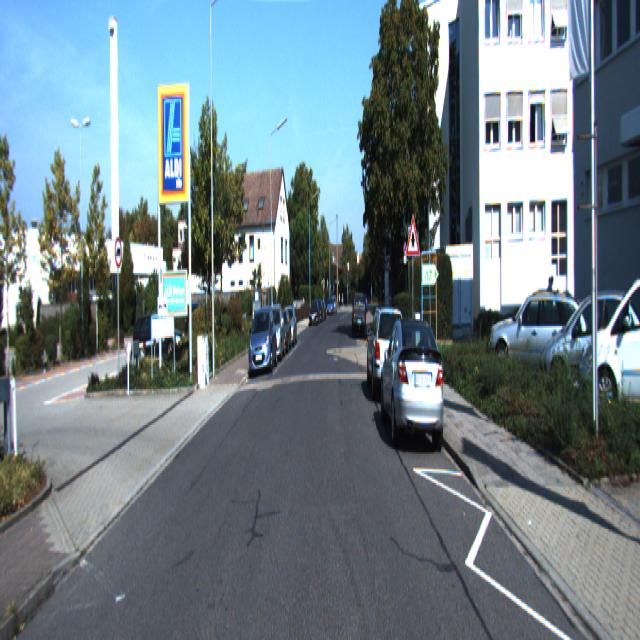Car: (535, 290, 639, 422), (486, 282, 588, 388), (580, 272, 640, 440), (378, 313, 448, 453), (366, 304, 408, 406), (131, 317, 184, 374), (247, 306, 278, 376), (260, 304, 286, 363), (353, 290, 367, 338)
